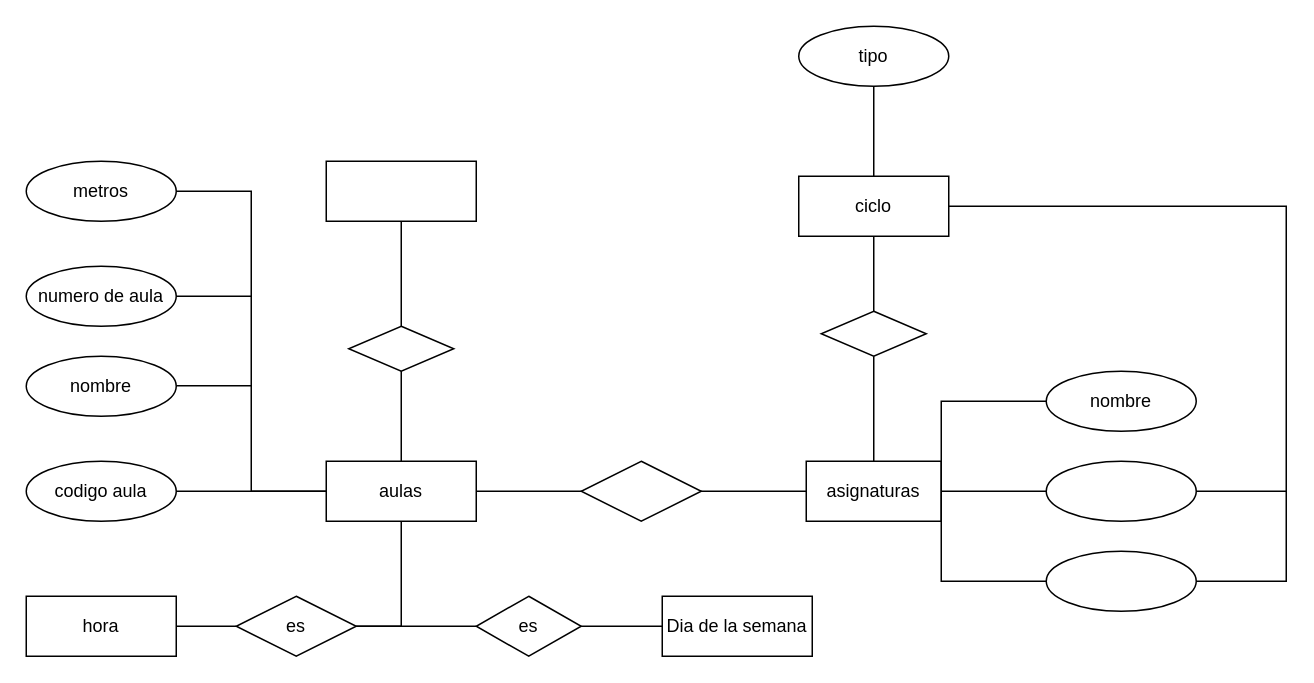
This 1314x683 diagram has some shape labels left out. Each missing label, with the centre of its shape:
"codigoEuropeo" belongs at point (1120, 580).
"codigoInterno" belongs at point (1120, 490).
"colegio" belongs at point (400, 190).
"ocupan" belongs at point (640, 490).
"pertenece" belongs at point (873, 333).
"tiene" belongs at point (400, 348).
